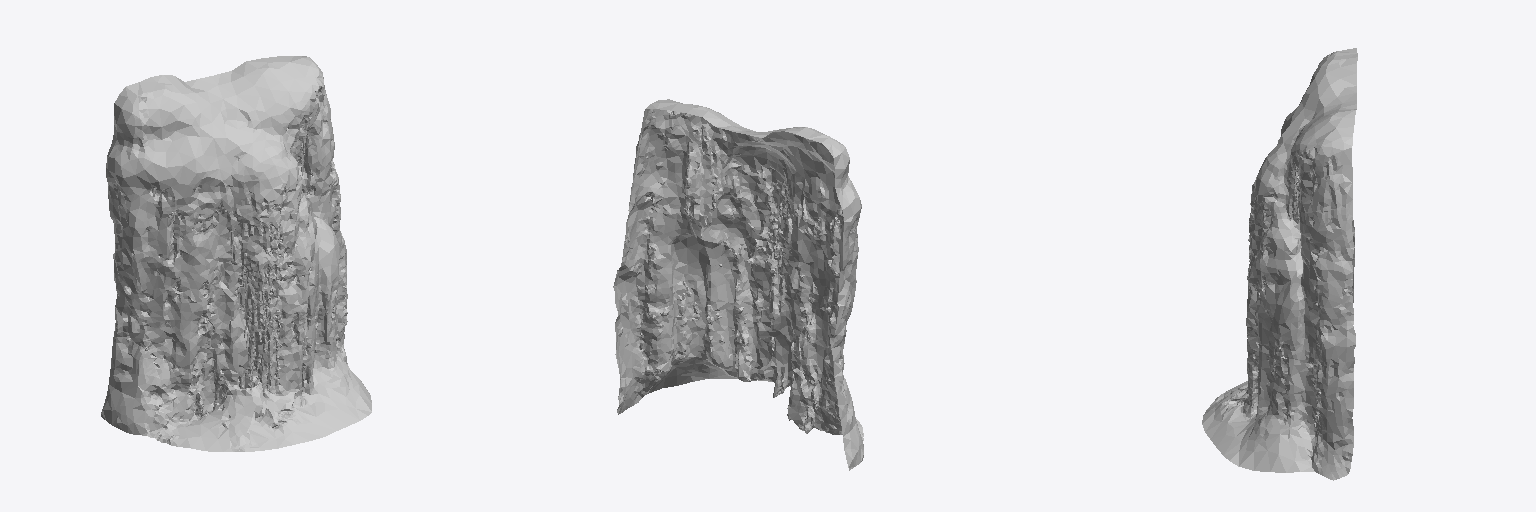
The model's file is ice_wall_1.obj.
The picture shows the model from 3 angles: view 1: azimuth 30°, elevation 25°; view 2: azimuth 150°, elevation 25°; view 3: azimuth 270°, elevation 25°; orthographic projection.
Parts seen in each view (by area): view 1: Aset_nature_rock_L_vdfjegtdb_LOD0; view 2: Aset_nature_rock_L_vdfjegtdb_LOD0; view 3: Aset_nature_rock_L_vdfjegtdb_LOD0.
Part boxes in pixels (left/top/right/bottom): Aset_nature_rock_L_vdfjegtdb_LOD0: left=101, top=56, right=371, bottom=451; Aset_nature_rock_L_vdfjegtdb_LOD0: left=613, top=99, right=863, bottom=470; Aset_nature_rock_L_vdfjegtdb_LOD0: left=1202, top=48, right=1357, bottom=480.
Size of the model in its own units: 2.8 by 3.74 by 1.59.